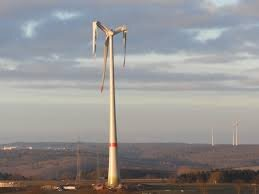faulty: (82, 18, 132, 108)
